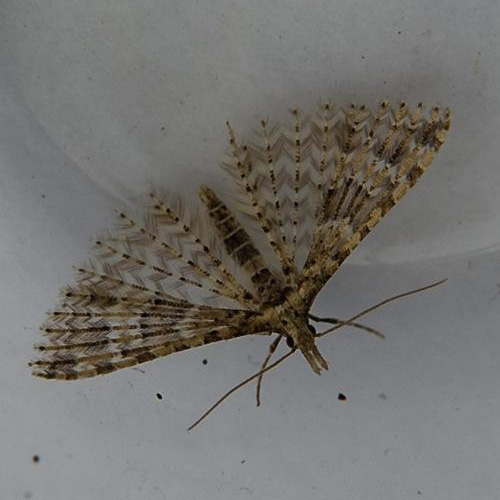Alucitidae: (28, 87, 456, 437)
moth: (30, 89, 458, 439)
